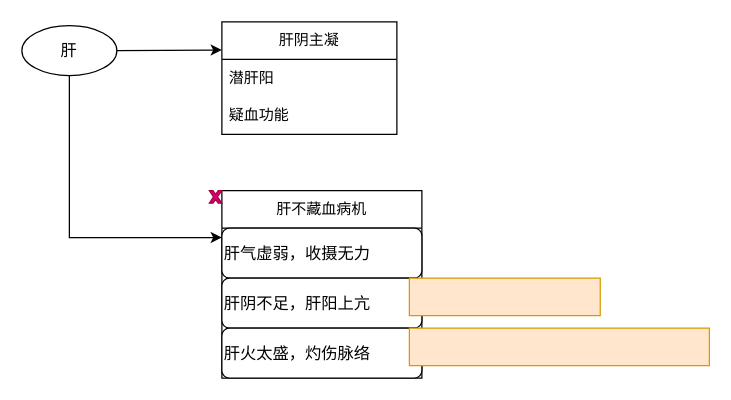
Image size: 731x400. Some labels were removed from this diagram. Here are the shapes that lost their labels. From the top down, the centre of each, then its label:
At (504,296): "上亢中风的脑溢血".
At (558,346): "吐血、衄血、咯血、月经过多、崩漏等".
